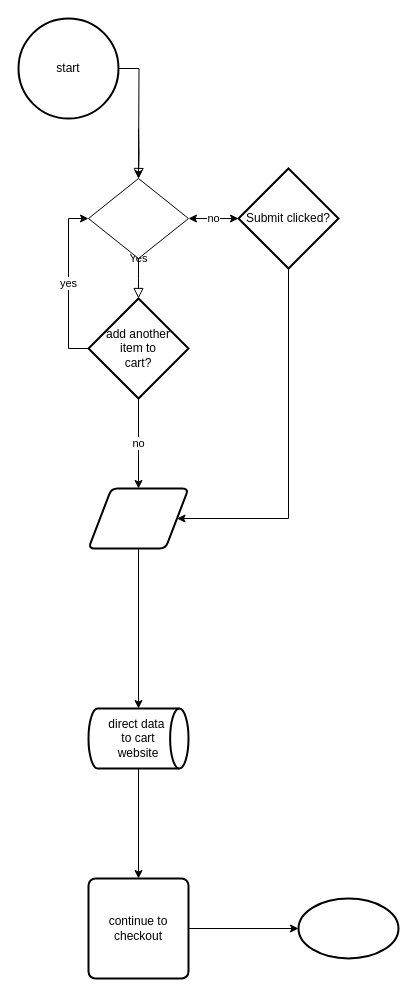
The diagram is 416 pixels wide and 996 high, and some of its shapes have lost their labels. The shapes that lost their labels are listed below. From the top down, each one's centre as x and y in pixels, then its label:
(x=138, y=218): add item to cart
(x=138, y=518): make list of cart items
(x=348, y=928): end
